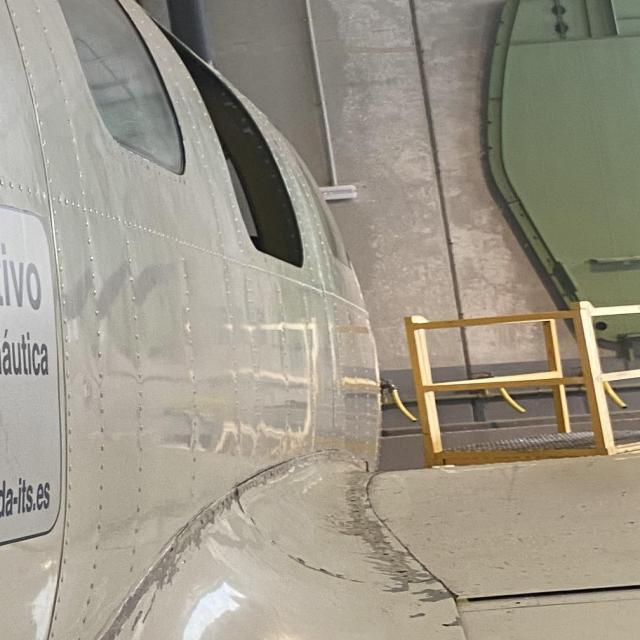Crack: (224, 459, 297, 494)
Paint-off: (128, 607, 144, 637), (119, 639, 120, 640)
Scratch: (124, 505, 221, 617), (359, 518, 421, 591)
